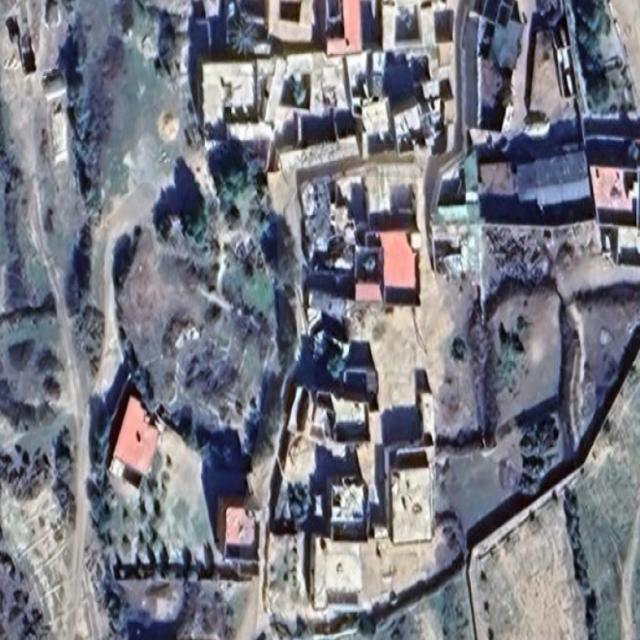Countryside roofs: (491, 147, 616, 238), (188, 37, 272, 145), (373, 0, 462, 94), (100, 377, 173, 488), (381, 447, 447, 559), (368, 221, 434, 306), (304, 535, 375, 609), (269, 56, 327, 144), (317, 0, 375, 77), (312, 383, 380, 447), (209, 484, 261, 566), (314, 467, 370, 538)
